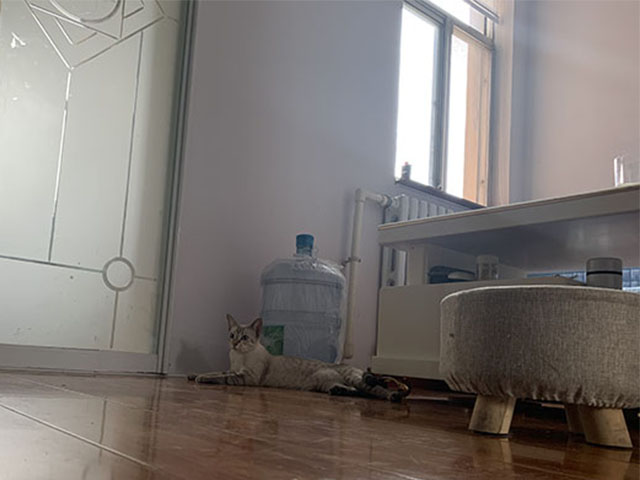stool: (436, 283, 640, 452)
table: (377, 188, 640, 384)
